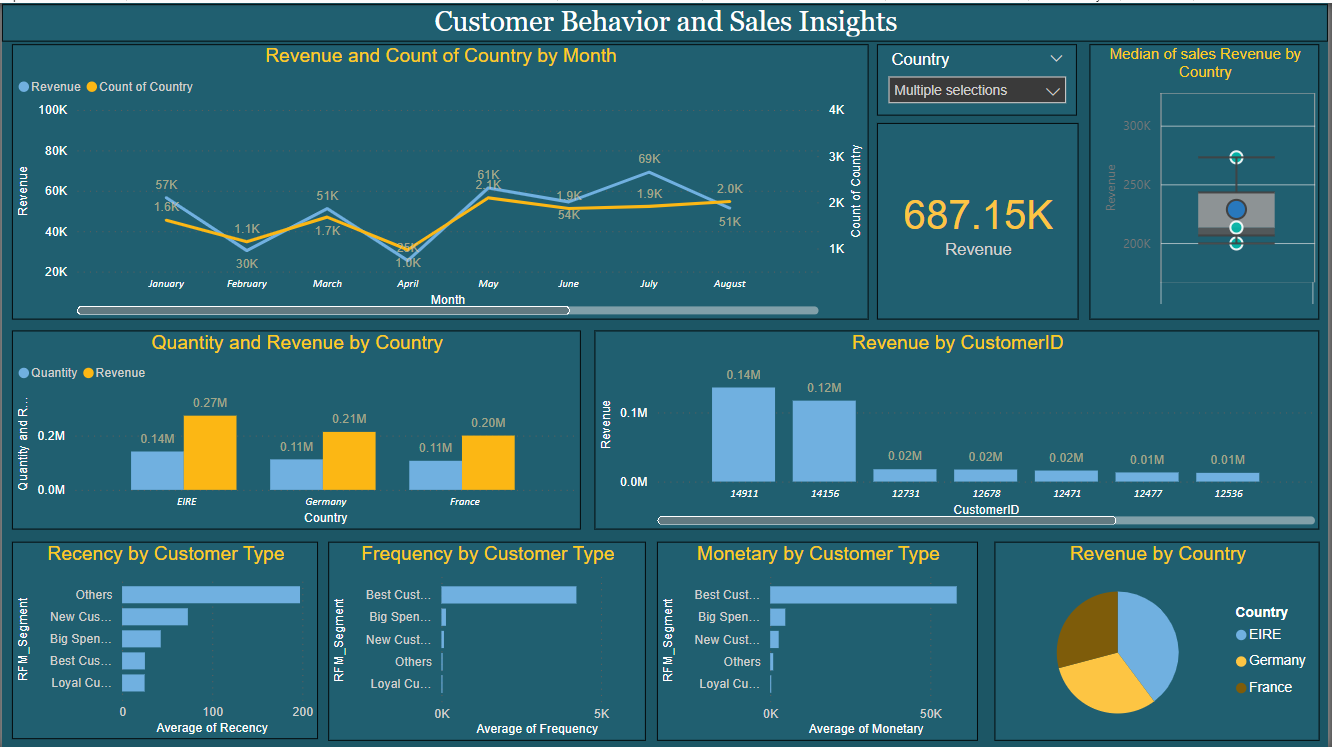

The dashboard page shown, as its layout file describes it:
{"tool":"powerbi","page":{"name":"Dashboard","canvas":[1280,720],"ordinal":0},"visuals":[{"type":"BoxandWhiskerByMAQ1823AD39DT234AB532063E128AX","title":"Median of sales Revenue by Country","fields":{"measure":["Sum(Online Retail.Revenue)"],"category":["Online Retail.Country"]},"box":[1049.2,39.8,221.9,265.3],"z":0},{"type":"clusteredColumnChart","fields":{"Y":["Sum(Online Retail.Quantity)","Sum(Online Retail.Revenue)"],"Category":["Online Retail.Country"]},"box":[9.6,316,548.7,191.8],"z":1000},{"type":"clusteredColumnChart","fields":{"Category":["Online Retail.CustomerID"],"Y":["Sum(Online Retail.Revenue)"]},"box":[571.7,316,699.5,191.8],"z":2000},{"type":"lineChart","fields":{"Category":["Online Retail.InvoiceDate.Variation.Date Hierarchy.Month"],"Y":["Sum(Online Retail.Revenue)"],"Y2":["CountNonNull(Online Retail.Country)"]},"box":[9.6,39.8,826.1,265.3],"z":3000},{"type":"card","fields":{"Values":["Sum(Online Retail.Revenue)"]},"box":[844.2,115.8,194.2,189.3],"z":5000},{"type":"barChart","title":" Recency by Customer Type","fields":{"Category":["RFM_Table.RFM_Segment"],"Y":["Avg(RFM_Table.Recency)"]},"box":[9.6,519.8,295.5,190.6],"z":6000},{"type":"barChart","title":"Frequency by Customer Type","fields":{"Category":["RFM_Table.RFM_Segment"],"Y":["Avg(RFM_Table.Frequency)"]},"box":[314.8,519.8,306.3,191.8],"z":7000},{"type":"barChart","title":"Monetary by Customer Type","fields":{"Category":["RFM_Table.RFM_Segment"],"Y":["Avg(RFM_Table.Monetary)"]},"box":[632,519.8,309.9,191.8],"z":8000},{"type":"pieChart","fields":{"Category":["Online Retail.Country"],"Y":["Sum(Online Retail.Revenue)"]},"box":[957.6,519.8,313.6,191.8],"z":9000},{"type":"slicer","fields":{"Values":["Online Retail.Country"]},"box":[844.2,39.8,193,68.7],"z":10000},{"type":"textbox","title":"Customer Behavior and Sales Insights","box":[0,1.2,1279.6,36.2],"z":11000}]}

Visuals, with their boxes in screenshot pixels (x1, y1, x2, y2), scaled from the page's 1280x720 canvas onto the 1332x747 screenshot:
"Median of sales Revenue by Country" BoxandWhiskerByMAQ1823AD39DT234AB532063E128AX: l=1092, t=41, r=1323, b=317
clusteredColumnChart - Sum(Online Retail.Quantity) x Sum(Online Retail.Revenue): l=10, t=328, r=581, b=527
clusteredColumnChart - Online Retail.CustomerID x Sum(Online Retail.Revenue): l=595, t=328, r=1323, b=527
lineChart - Online Retail.InvoiceDate.Variation.Date Hierarchy.Month x Sum(Online Retail.Revenue): l=10, t=41, r=870, b=317
card - Sum(Online Retail.Revenue): l=878, t=120, r=1081, b=317
" Recency by Customer Type" barChart: l=10, t=539, r=317, b=737
"Frequency by Customer Type" barChart: l=328, t=539, r=646, b=738
"Monetary by Customer Type" barChart: l=658, t=539, r=980, b=738
pieChart - Online Retail.Country x Sum(Online Retail.Revenue): l=997, t=539, r=1323, b=738
slicer - Online Retail.Country: l=878, t=41, r=1079, b=113
"Customer Behavior and Sales Insights" textbox: l=0, t=1, r=1331, b=39
